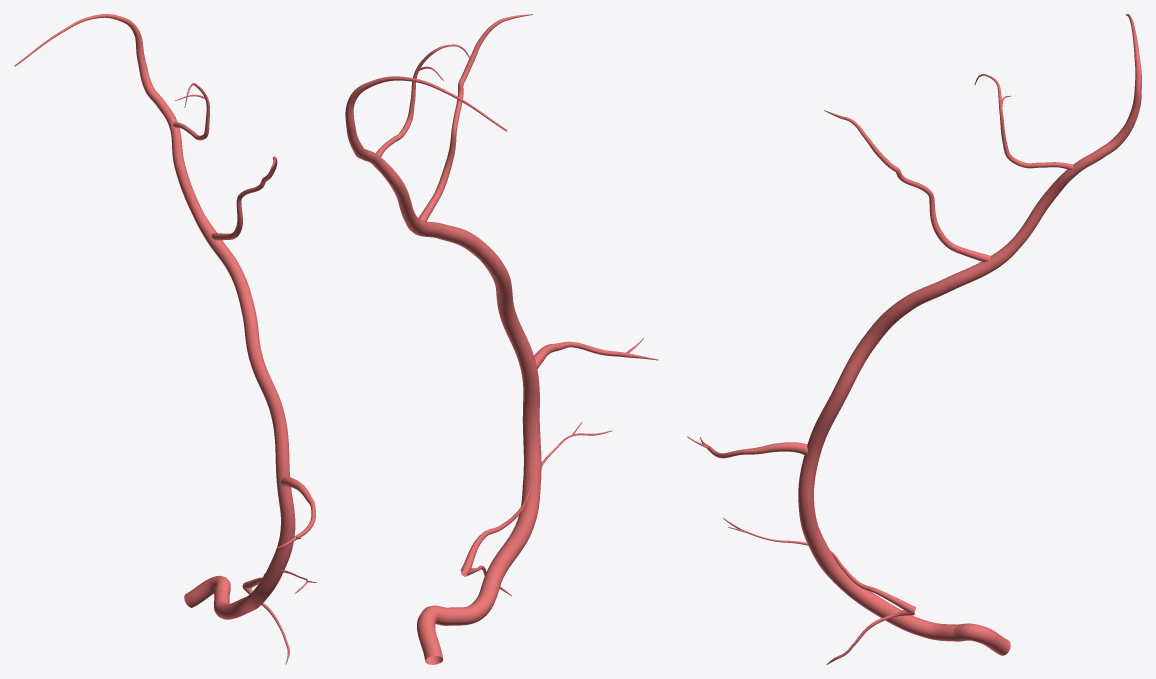
File: Callosomarginal_artery.r_BezierCurve.211.glb
The picture shows the model from 3 angles, left to right: view 1: azimuth 30°, elevation 25°; view 2: azimuth 150°, elevation 25°; view 3: azimuth 270°, elevation 25°; orthographic projection. The views are drawn at different scales.
Visible parts, largest first — view 1: Callosomarginal_artery.r_BezierCurve.211; view 2: Callosomarginal_artery.r_BezierCurve.211; view 3: Callosomarginal_artery.r_BezierCurve.211.
Boxes of the visible parts, box(x1,y1,x2,y2) form: Callosomarginal_artery.r_BezierCurve.211: box(14, 14, 316, 664); Callosomarginal_artery.r_BezierCurve.211: box(345, 14, 658, 664); Callosomarginal_artery.r_BezierCurve.211: box(687, 14, 1141, 664).
Bounding box in the file's own units: 0.0215 × 0.0784 × 0.053.
